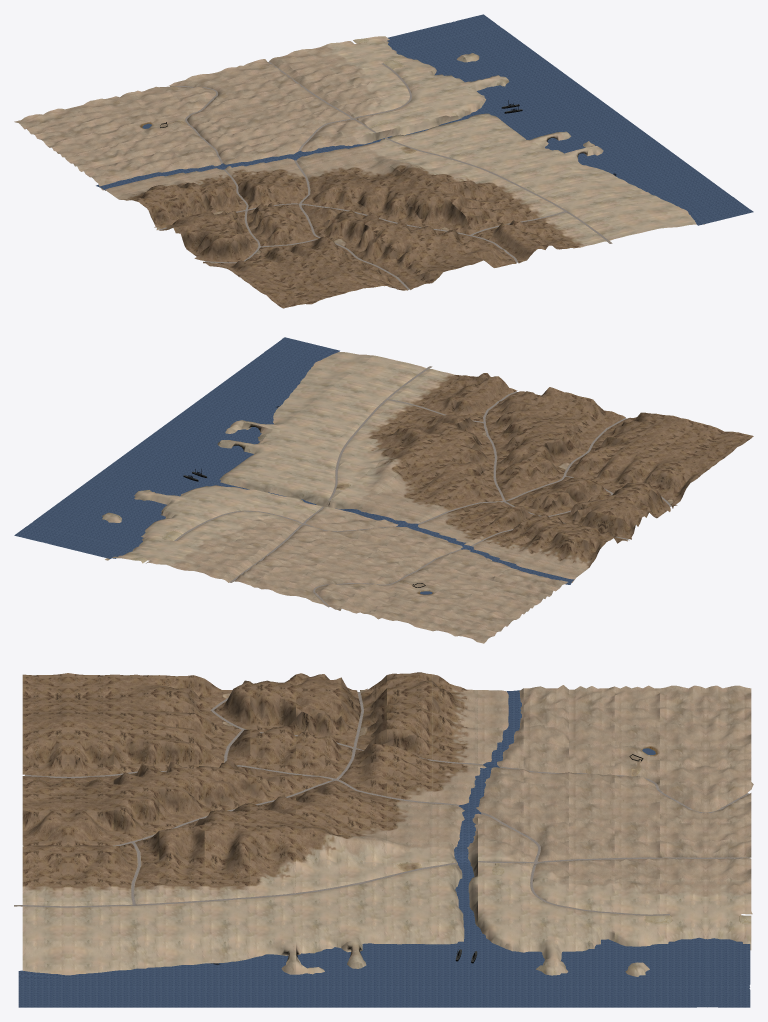
File: thelandscape3.gltf
3 views of the same model, one above another, from view 1: azimuth 30°, elevation 25°; view 2: azimuth 150°, elevation 25°; view 3: azimuth 270°, elevation 25° (orthographic). The views are drawn at different scales.
Visible parts, largest first — view 1: thelandscape3; view 2: thelandscape3; view 3: thelandscape3.
Boxes of the visible parts, x1,y1,x2,y2 form: thelandscape3: (14,14,753,308); thelandscape3: (14,337,753,643); thelandscape3: (14,672,753,1007).
Bounding box in the file's own units: 8682 × 445 × 8707.
Materials: 41 (41 with a texture image).
